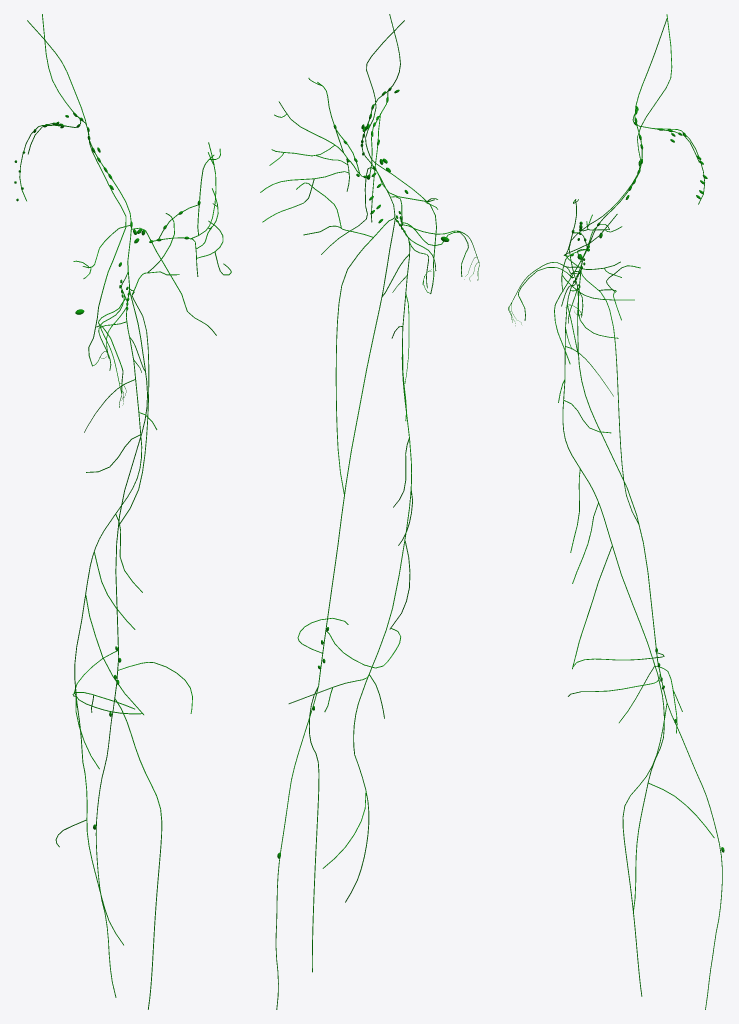
The model's file is Lower limb Lymphatic L.fbx.
The picture shows the model from 3 angles, left to right: view 1: azimuth 30°, elevation 25°; view 2: azimuth 150°, elevation 25°; view 3: azimuth 270°, elevation 25°; orthographic projection. The views are drawn at different scales.
Parts seen in each view (by area): view 1: Femoral_group_of_lymph_vessels_L, Superficial_inguinal_lymph_vessles_L, Fibular_group_of_lymph_vessels_L, Gonadal_lymph_vessels_L; view 2: Femoral_group_of_lymph_vessels_L, Superficial_inguinal_lymph_vessles_L, Fibular_group_of_lymph_vessels_L; view 3: Femoral_group_of_lymph_vessels_L, Superficial_inguinal_lymph_vessles_L, Fibular_group_of_lymph_vessels_L.
Part boxes in pixels (box(x1,y1,x2,y2)): Femoral_group_of_lymph_vessels_L: box(72, 289, 192, 773); Superficial_inguinal_lymph_vessles_L: box(131, 142, 231, 335); Fibular_group_of_lymph_vessels_L: box(95, 698, 162, 1009); Gonadal_lymph_vessels_L: box(27, 20, 126, 366); Femoral_group_of_lymph_vessels_L: box(288, 217, 412, 754); Superficial_inguinal_lymph_vessles_L: box(260, 78, 375, 254); Fibular_group_of_lymph_vessels_L: box(275, 686, 319, 1009); Femoral_group_of_lymph_vessels_L: box(558, 270, 682, 747); Superficial_inguinal_lymph_vessles_L: box(554, 199, 640, 364); Fibular_group_of_lymph_vessels_L: box(622, 703, 722, 1009).
Bounding box in the file's own units: 16.9 × 96.46 × 19.9.
